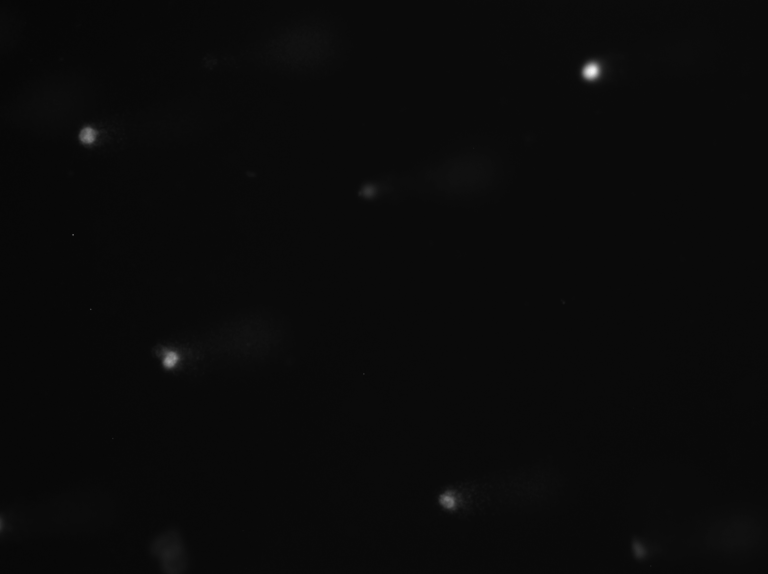high: (177, 9, 352, 82), (345, 137, 515, 209)
low: (564, 41, 643, 96)
medium: (140, 302, 297, 383), (423, 459, 573, 527), (63, 112, 135, 157)
